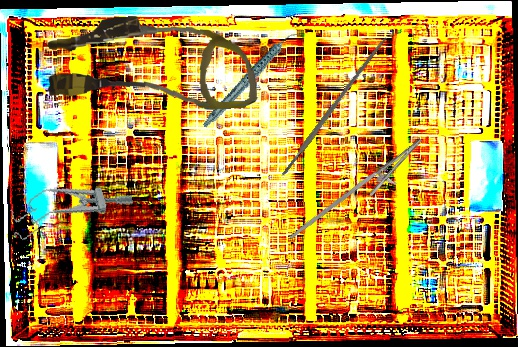Cannula: (43, 7, 259, 122)
Handpiece: (187, 29, 314, 129)
Needle Holder: (288, 123, 432, 263)
Scalpel Handle: (278, 35, 389, 178)
Speculum: (5, 169, 136, 243)
